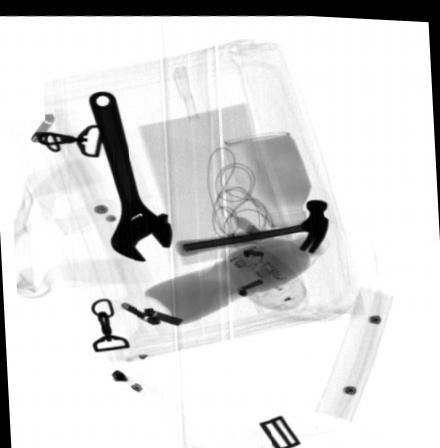Hammer: (175, 195, 330, 254)
Wrench: (90, 89, 172, 259)
